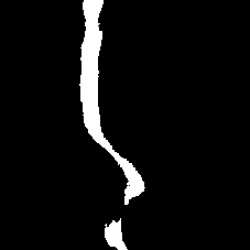crack: (77, 2, 148, 208), (102, 215, 126, 248)
